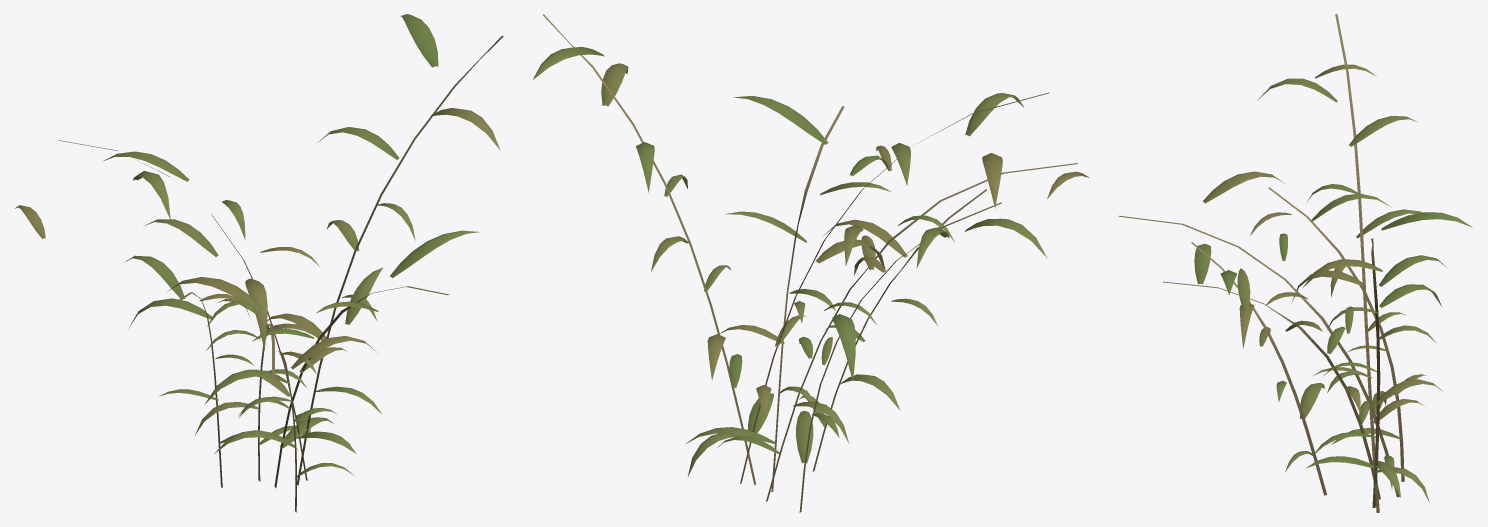
File: pondweed_1.glb
The picture shows the model from 3 angles, left to right: view 1: azimuth 30°, elevation 25°; view 2: azimuth 150°, elevation 25°; view 3: azimuth 270°, elevation 25°; orthographic projection. The views are drawn at different scales.
Parts seen in each view (by area): view 1: pondweed_1; view 2: pondweed_1; view 3: pondweed_1.
Boxes of the visible parts, box(x1,y1,x2,y2) form: pondweed_1: box(15, 14, 503, 512); pondweed_1: box(532, 14, 1088, 512); pondweed_1: box(1118, 14, 1472, 512).
Size of the model in its own units: 0.9413 by 0.7715 by 0.6542.
